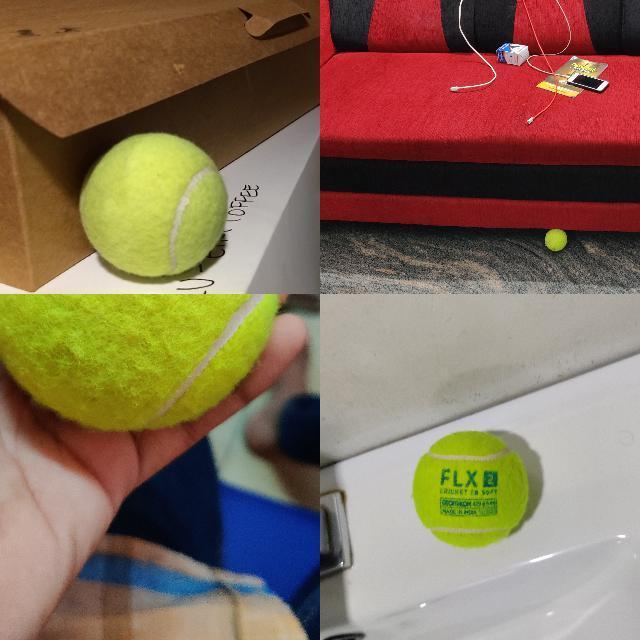tennis-ball: (0, 294, 277, 429), (78, 132, 228, 278), (410, 429, 530, 551), (544, 229, 566, 251)
